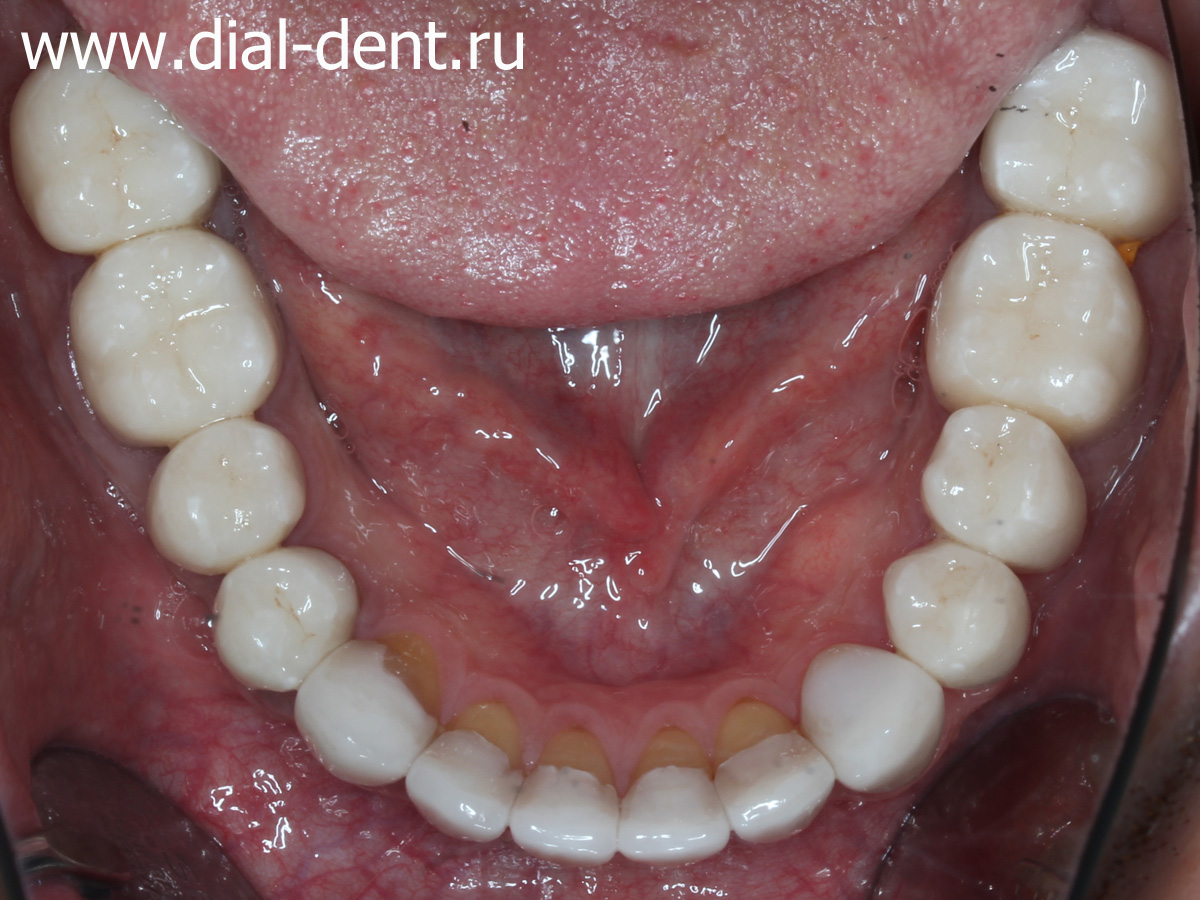LL1BC_healthy: (892, 551, 1023, 679)
LL1M_healthy: (948, 217, 1147, 422)
LL2BC_healthy: (932, 417, 1083, 564)
LL2M_healthy: (1005, 31, 1186, 231)
LLCI_decay: (619, 720, 732, 863)
LLC_healthy: (802, 648, 945, 782)
LLLI_decay: (719, 694, 828, 837)
LR1BC_healthy: (219, 542, 361, 689)
LR1M_healthy: (83, 239, 271, 435)
LR2BC_healthy: (156, 429, 302, 561)
LR2M_healthy: (19, 65, 223, 237)
LRCI_decay: (524, 721, 618, 869)
LRC_decay: (306, 638, 427, 781)
LRLI_decay: (418, 698, 523, 840)
